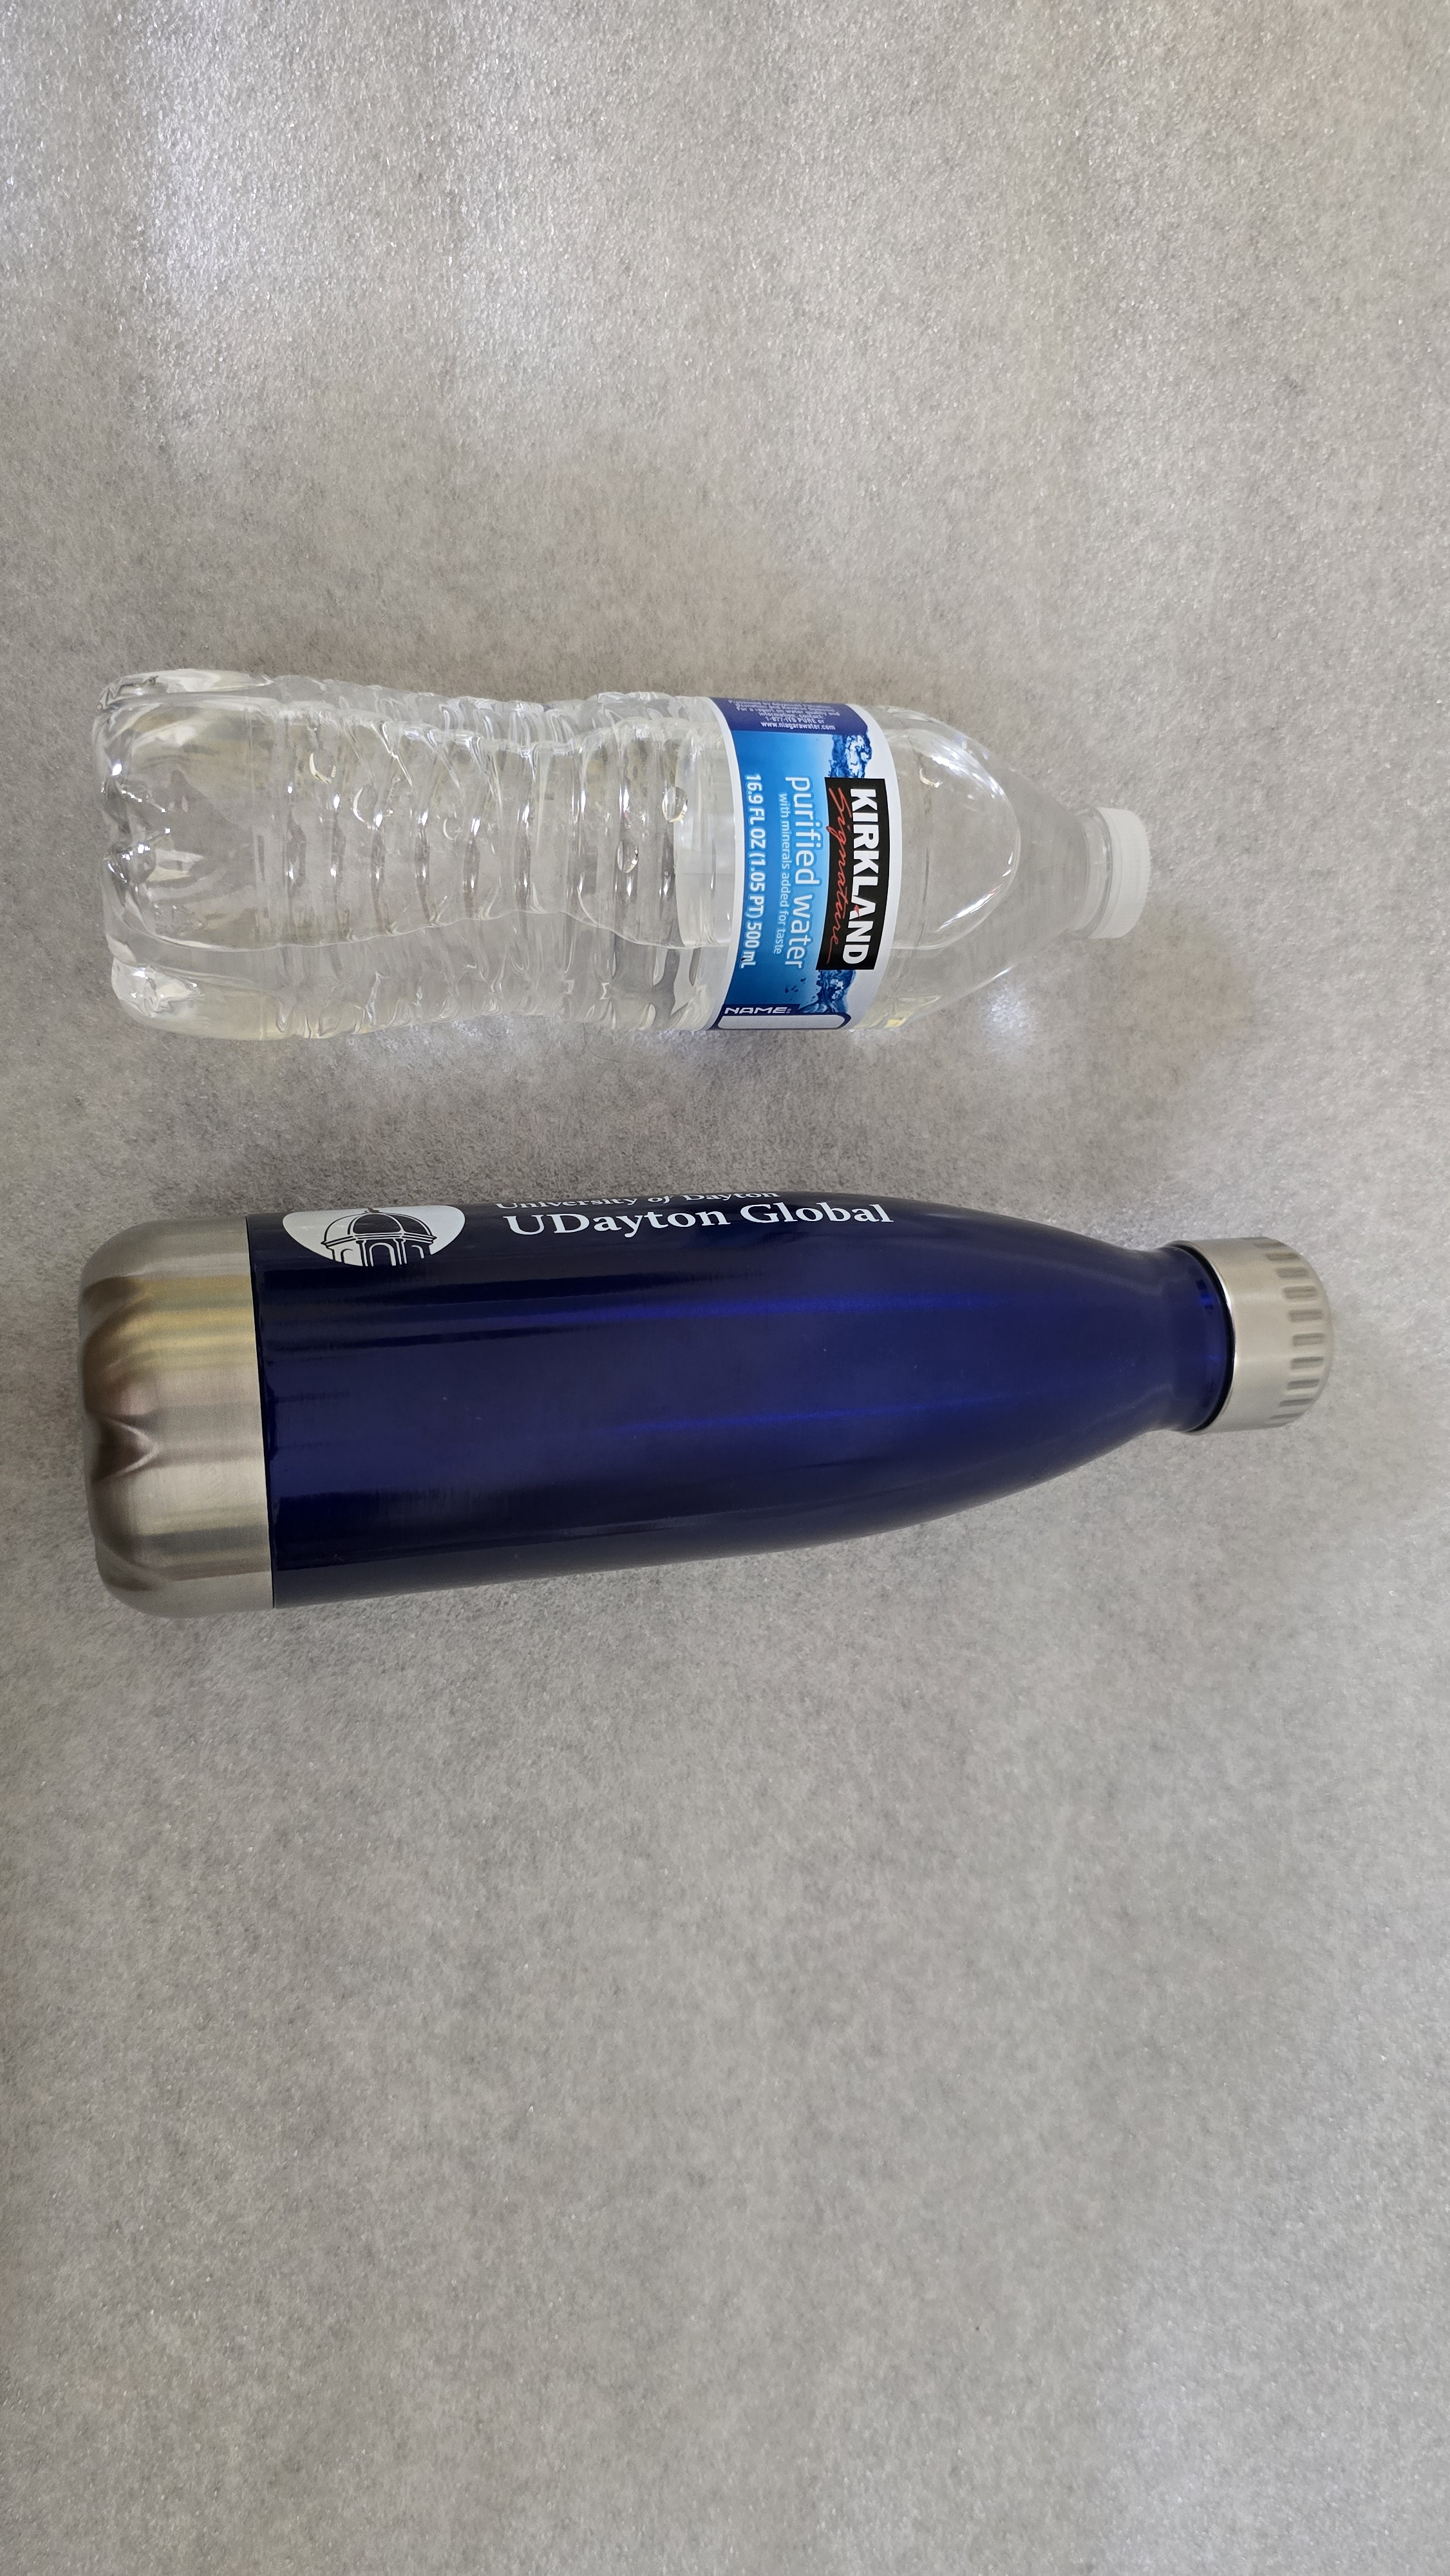bottle: (77, 1175, 1343, 1583), (66, 633, 1195, 1070)
